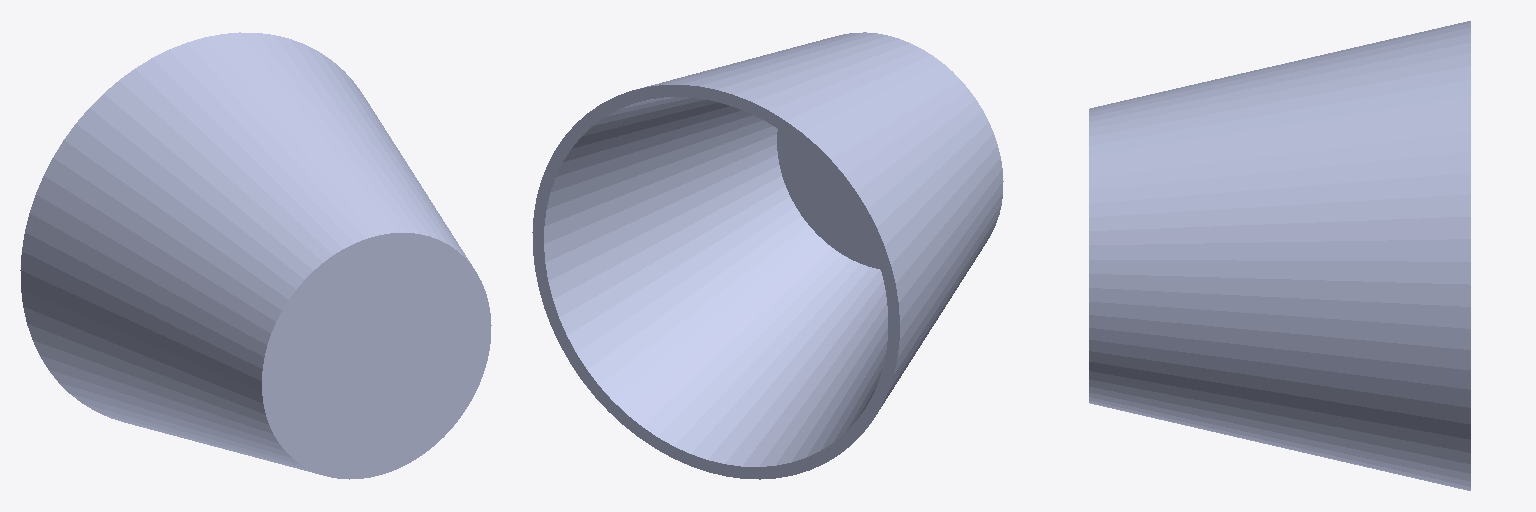
robot.urdf — assembly_1:
<!--URDF generated by ONSHAPE BY PTC INC, 1.223-->
<robot name="assembly_1">
    <link name="root">
        <inertial>
            <mass value="0.000849639" />
            <origin xyz="1.16361e-33 0.0711091 1.09648e-17" rpy="0 -0 0" />
            <inertia ixx="4.52006e-06" ixy="0" ixz="0" iyy="4.69961e-06" iyz="0" izz="4.52006e-06" />
        </inertial>
        <visual>
            <origin xyz="0 0 0" rpy="0 -0 0" />
            <geometry>
                <mesh filename="package://assembly_1/meshes/Part_1.stl" scale="1 1 1" />
            </geometry>
            <material name="0.792157_0.819608_0.933333_0.000000_0.000000">
                <color rgba="0.792157 0.819608 0.933333 1" />
            </material>
        </visual>
    </link>
</robot>

--- Facts derived from the render (not from the file) ---
Views: 3 orthographic renders of the robot side by side, from view 1: azimuth 30°, elevation 25°; view 2: azimuth 150°, elevation 25°; view 3: azimuth 270°, elevation 25°.
Model assembly_1 with 1 links and 0 joints (none), rooted at root, posed every joint at zero.
Visible links, largest first — view 1: root; view 2: root; view 3: root.
Boxes of the visible links, <box> form: root: <box>20,32,491,479</box>; root: <box>532,32,1003,479</box>; root: <box>1089,21,1470,490</box>.
Bounding box of the posed robot: 0.2031 × 0.1651 × 0.2031 m (x, y, z).
1 mesh visuals loaded from 1 distinct referenced files (1 binary STL).
